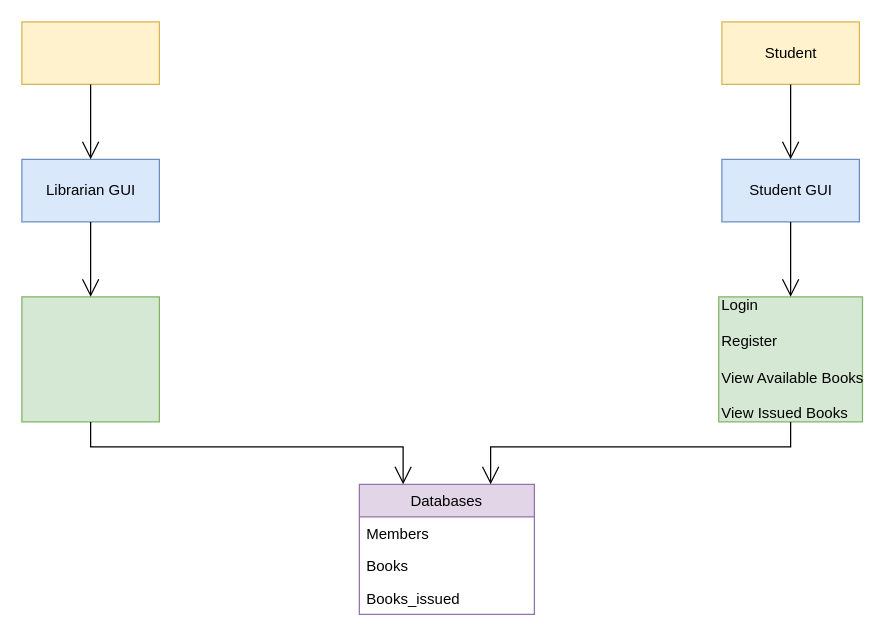
Image size: 885x640. Some labels were removed from this diagram. Each missing label, with the box of its shape:
Librarian: (21, 21, 159, 84)
Login Add/Delete Books Issue/Return Books View Book List: (21, 296, 159, 422)
